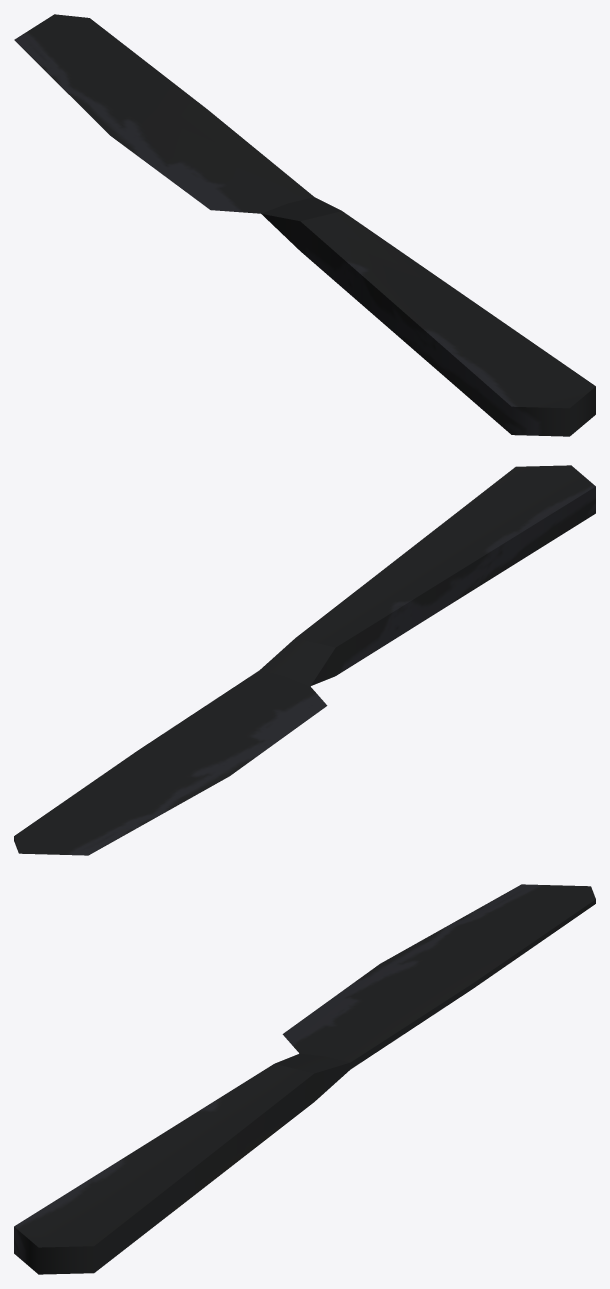
The model's file is SM_PROP_knife_battle_01.fbx.
3 views of the same model, one above another, from view 1: azimuth 30°, elevation 25°; view 2: azimuth 150°, elevation 25°; view 3: azimuth 330°, elevation 25° (orthographic). The views are drawn at different scales.
Parts seen in each view (by area): view 1: SM_PROP_knife_battle_01; view 2: SM_PROP_knife_battle_01; view 3: SM_PROP_knife_battle_01.
Part boxes in pixels (x1,y1,x2,y2): SM_PROP_knife_battle_01: [14, 14, 595, 436]; SM_PROP_knife_battle_01: [14, 465, 595, 855]; SM_PROP_knife_battle_01: [14, 884, 595, 1274].
Size of the model in its own units: 3.24 by 0.8914 by 29.52.
